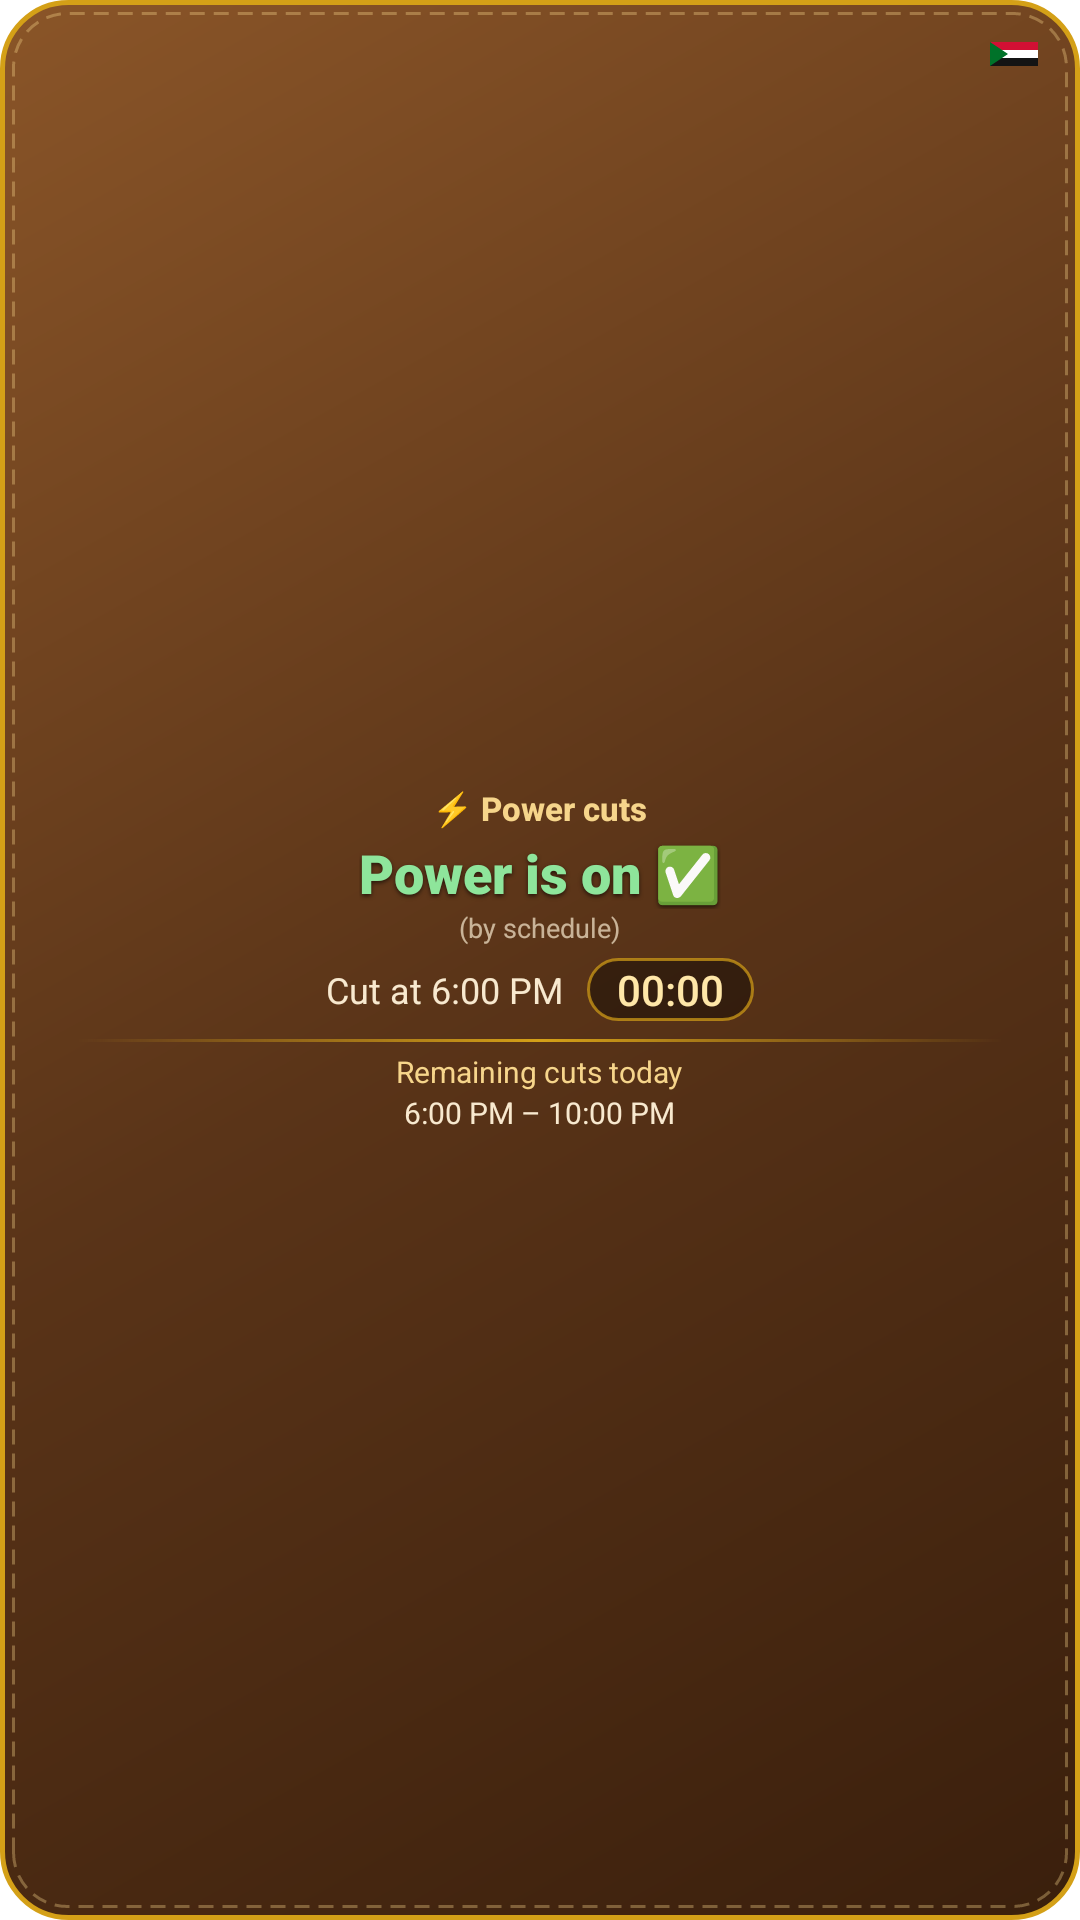

Icons on this 1080w x 1920h Android screen, each with its box as (x1, y1, x2, y2):
flag: (990, 42, 1038, 66)
